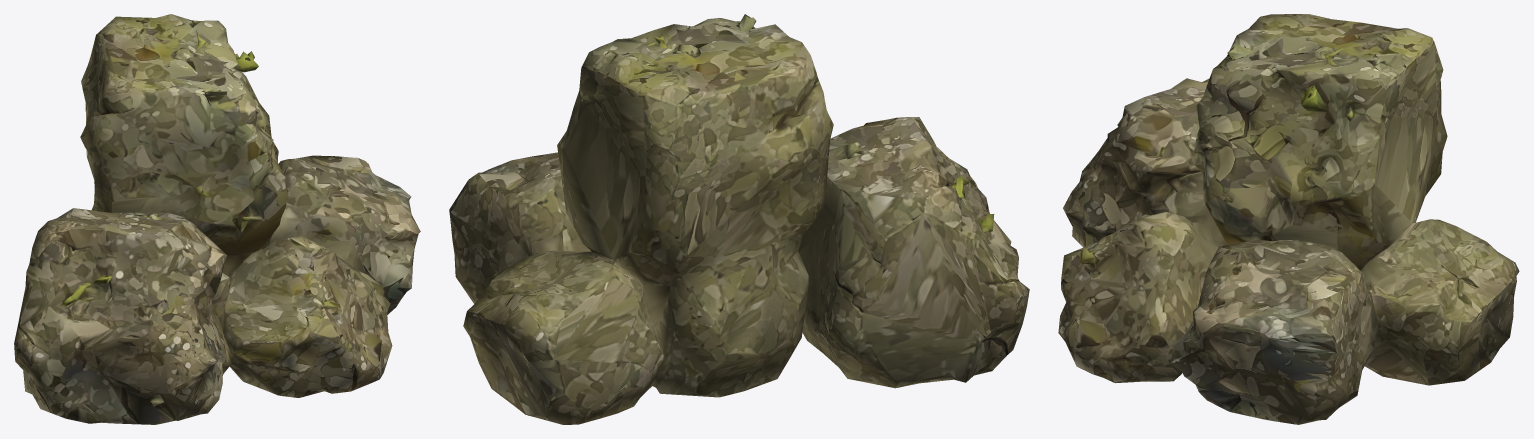
The model's file is gnd_temperate_boulders.fbx.
3 views of the same model, side by side, from view 1: azimuth 30°, elevation 25°; view 2: azimuth 150°, elevation 25°; view 3: azimuth 270°, elevation 25° (orthographic). The views are drawn at different scales.
Parts seen in each view (by area): view 1: gnd_temperate_boulders_LOD0; view 2: gnd_temperate_boulders_LOD0; view 3: gnd_temperate_boulders_LOD0.
Boxes of the visible parts, x1,y1,x2,y2 form: gnd_temperate_boulders_LOD0: (14, 14, 420, 424); gnd_temperate_boulders_LOD0: (449, 14, 1029, 424); gnd_temperate_boulders_LOD0: (1058, 14, 1519, 424).
Size of what is drawn, in the model's own units: 0.98 by 0.6149 by 0.8662.
